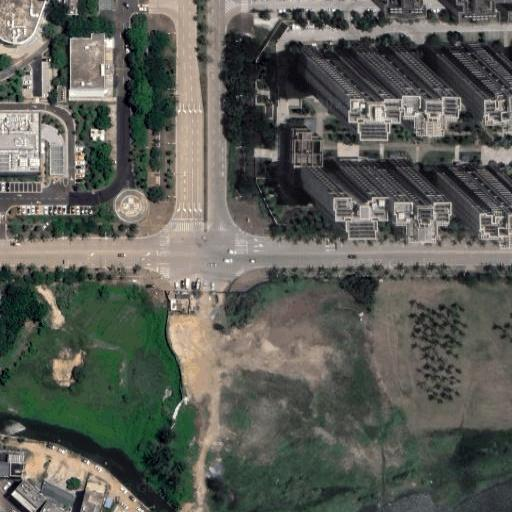building: (305, 171, 423, 216), (310, 55, 421, 100), (0, 113, 62, 181), (439, 48, 501, 86), (68, 32, 104, 89), (436, 170, 506, 195), (290, 129, 323, 168), (11, 480, 44, 512), (34, 55, 50, 95), (79, 490, 105, 512), (40, 500, 66, 512), (9, 462, 23, 476), (8, 450, 23, 462), (103, 497, 113, 507)
